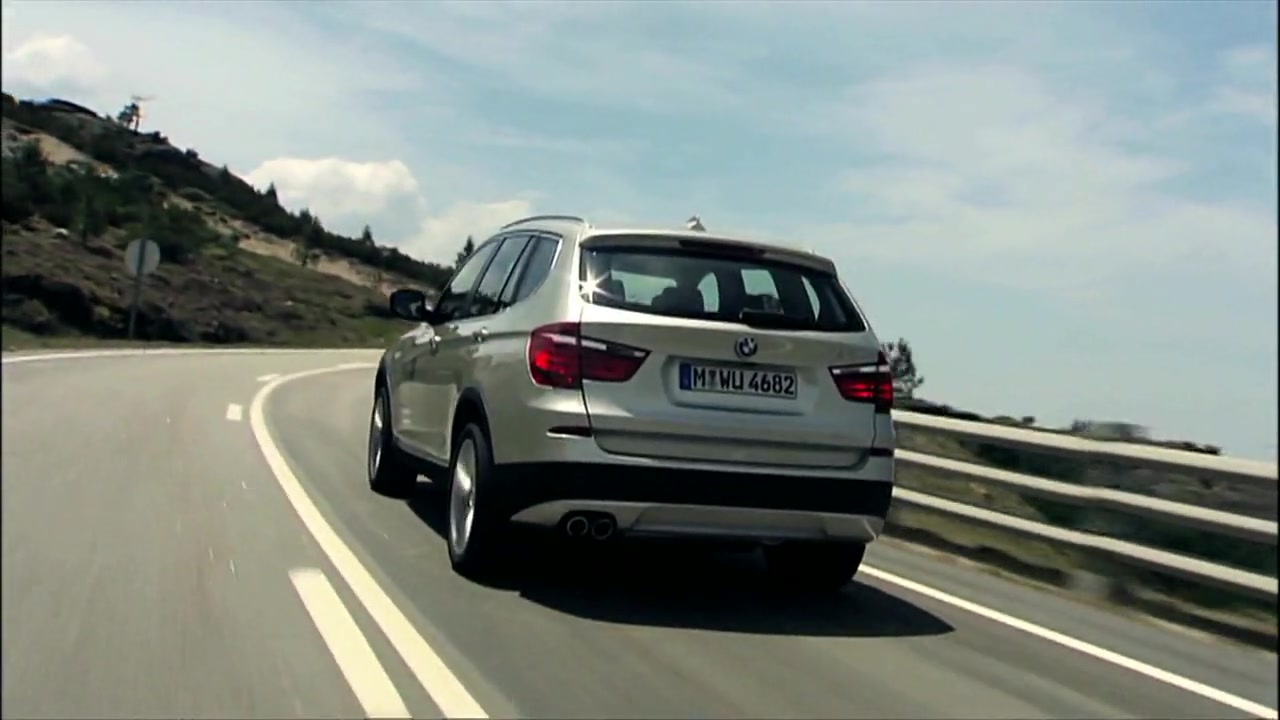car: (364, 212, 898, 591)
